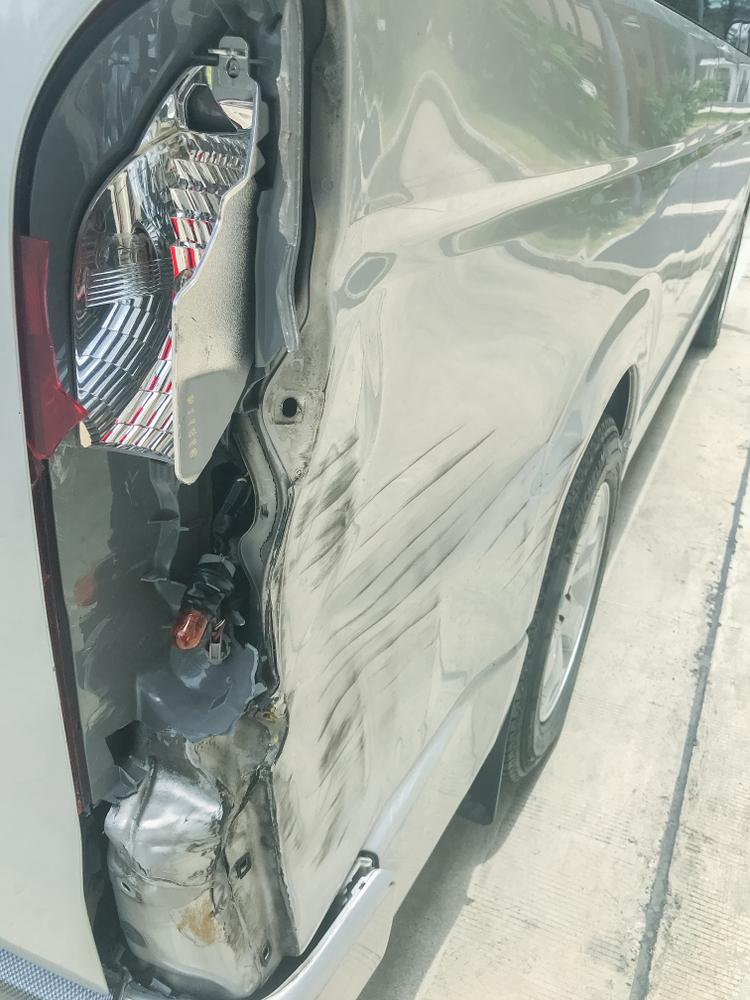dent: (268, 209, 604, 948)
lamp broken: (14, 0, 319, 1000)
